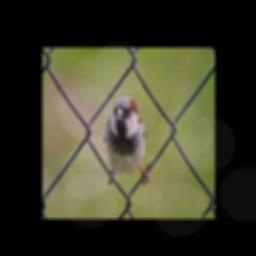Sparrow: (104, 97, 146, 176)
